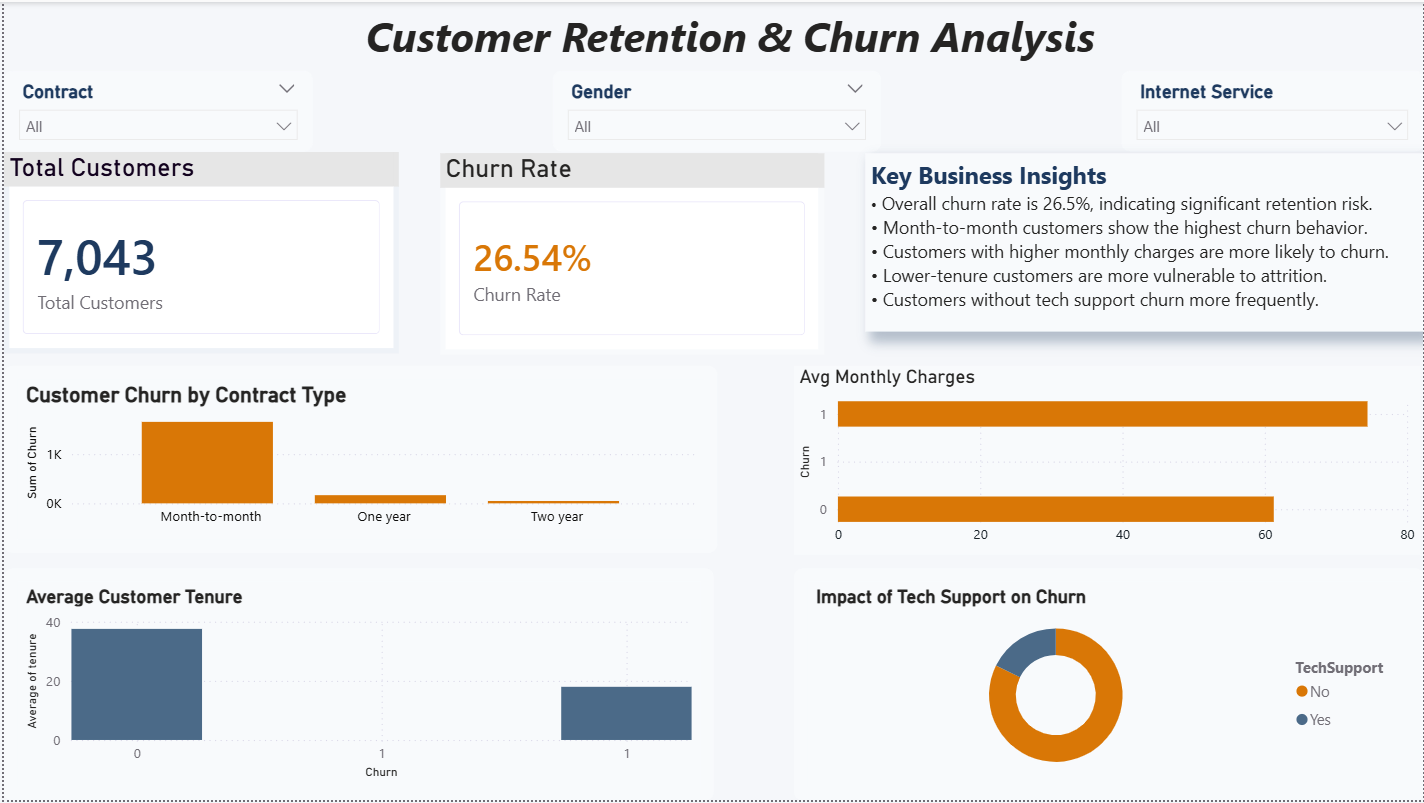

The page's visual inventory and layout, read from the dashboard file:
{"tool":"powerbi","page":{"name":"Page 1","canvas":[1280,720],"ordinal":0},"visuals":[{"type":"cardVisual","title":"Total Customers","fields":{"Data":["CountNonNull(cleaned_churn.customerID)"]},"box":[0,135.3,356.2,181.5],"z":0},{"type":"cardVisual","title":"Churn Rate","fields":{"Data":["cleaned_churn.Churn Rate"]},"box":[393.4,136.4,346,181.5],"z":1000},{"type":"clusteredColumnChart","title":"Customer Churn by Contract Type","fields":{"Category":["cleaned_churn.Contract"],"Y":["Sum(cleaned_churn.Churn)"]},"box":[0,328,643.6,169.1],"z":2000},{"type":"clusteredColumnChart","title":"Average Customer Tenure","fields":{"Category":["cleaned_churn.Churn"],"Y":["Avg(cleaned_churn.tenure)"]},"box":[0,510.6,640.2,209.6],"z":4000},{"type":"slicer","fields":{"Values":["cleaned_churn.Contract"]},"box":[0,62.5,278.8,72.5],"z":5000},{"type":"slicer","fields":{"Values":["cleaned_churn.gender"]},"box":[495,62.5,296.2,72.5],"z":6000},{"type":"slicer","fields":{"Values":["cleaned_churn.InternetService"]},"box":[1007.5,62.5,272.5,72.5],"z":7000},{"type":"donutChart","title":"Impact of Tech Support on Churn","fields":{"Category":["cleaned_churn.TechSupport"],"Y":["Sum(cleaned_churn.Churn)"]},"box":[712.3,510.6,568.1,209.6],"z":8000},{"type":"textbox","box":[776.6,136.4,503.8,161.2],"z":9001},{"type":"clusteredBarChart","title":"Avg Monthly Charges","fields":{"Category":["cleaned_churn.Churn"],"Y":["Avg(cleaned_churn.MonthlyCharges)"]},"box":[712.5,327.5,565,170],"z":9002},{"type":"textbox","box":[321.2,0,707.5,78.8],"z":9003}]}

Visuals, with their boxes in screenshot pixels (x1, y1, x2, y2), scaled from the page's 1280x720 canvas onto the 1424x803 screenshot:
"Total Customers" cardVisual: bbox=[0, 151, 396, 353]
"Churn Rate" cardVisual: bbox=[438, 152, 823, 355]
"Customer Churn by Contract Type" clusteredColumnChart: bbox=[0, 366, 716, 554]
"Average Customer Tenure" clusteredColumnChart: bbox=[0, 569, 712, 802]
slicer - cleaned_churn.Contract: bbox=[0, 70, 310, 151]
slicer - cleaned_churn.gender: bbox=[551, 70, 880, 151]
slicer - cleaned_churn.InternetService: bbox=[1121, 70, 1423, 151]
"Impact of Tech Support on Churn" donutChart: bbox=[792, 569, 1423, 802]
textbox: bbox=[864, 152, 1423, 332]
"Avg Monthly Charges" clusteredBarChart: bbox=[793, 365, 1421, 555]
textbox: bbox=[357, 0, 1144, 88]
